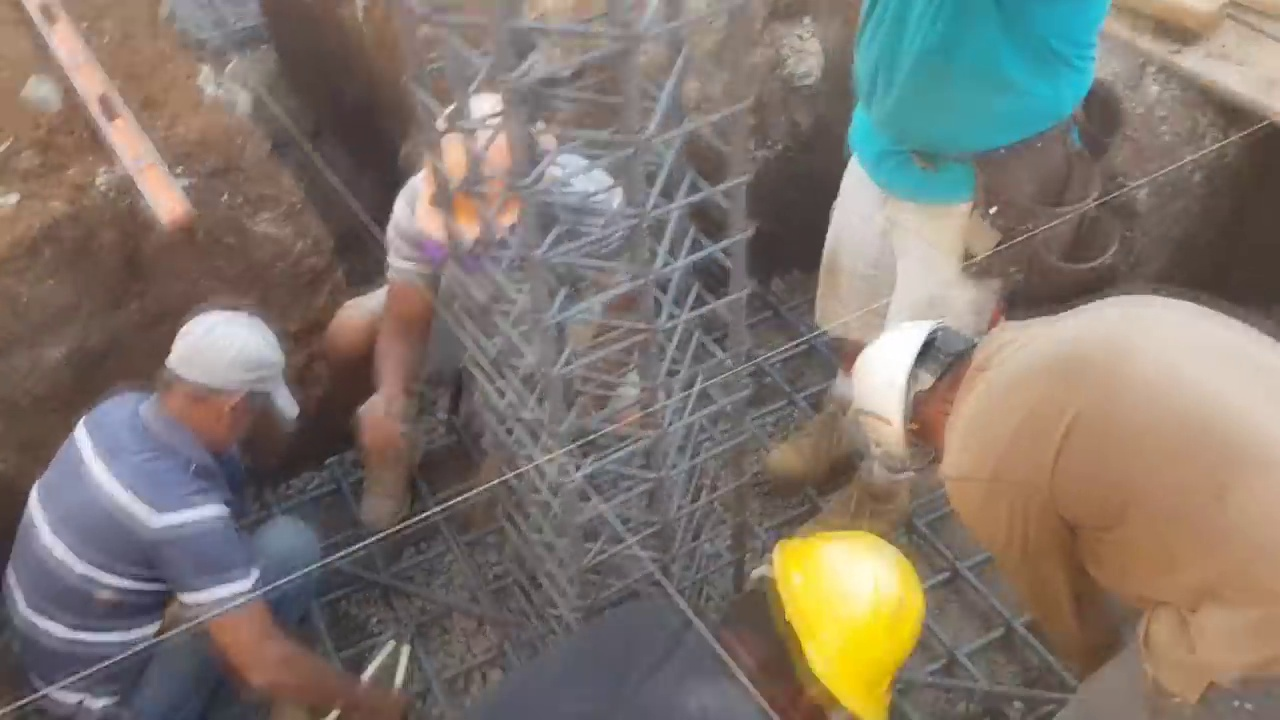helmet: (764, 532, 922, 718), (848, 320, 984, 483), (417, 102, 519, 250)
helmet-off: (147, 310, 287, 478)
helmet-on: (691, 531, 925, 716), (848, 300, 1014, 483), (415, 98, 545, 276)
person: (844, 292, 1280, 717), (322, 48, 657, 551), (770, 6, 1118, 488), (5, 298, 387, 709), (442, 522, 926, 717)
